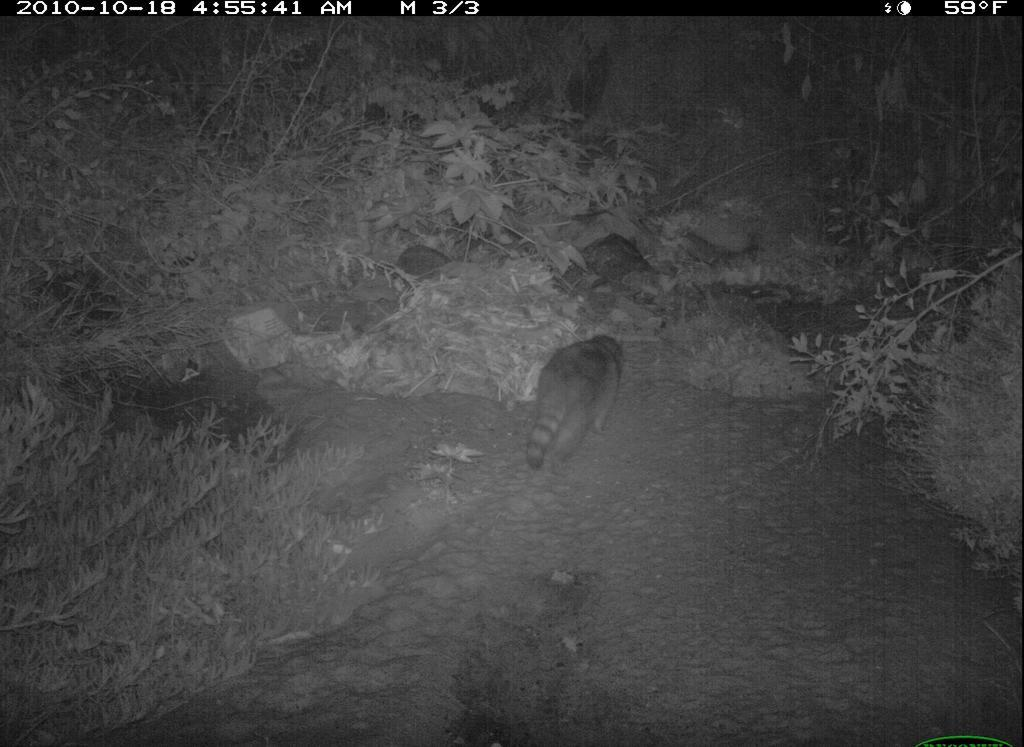raccoon: (513, 326, 646, 481)
